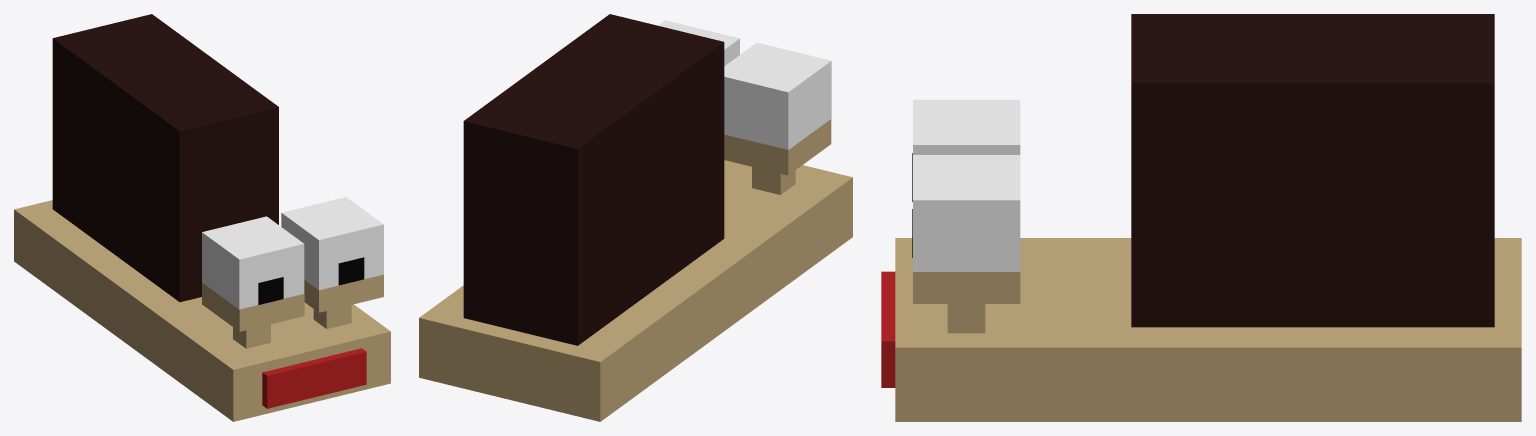
Rendered from Snail.fbx.
3 views of the same model, side by side, from view 1: azimuth 30°, elevation 25°; view 2: azimuth 150°, elevation 25°; view 3: azimuth 270°, elevation 25° (orthographic). The views are drawn at different scales.
Parts seen in each view (by area): view 1: Snail; view 2: Snail; view 3: Snail.
Part boxes in pixels (left/top/right/bottom): Snail: left=14, top=14, right=390, bottom=421; Snail: left=419, top=14, right=852, bottom=421; Snail: left=881, top=14, right=1521, bottom=421.
Bounding box in the file's own units: 8.92 × 21.98 × 12.06.
